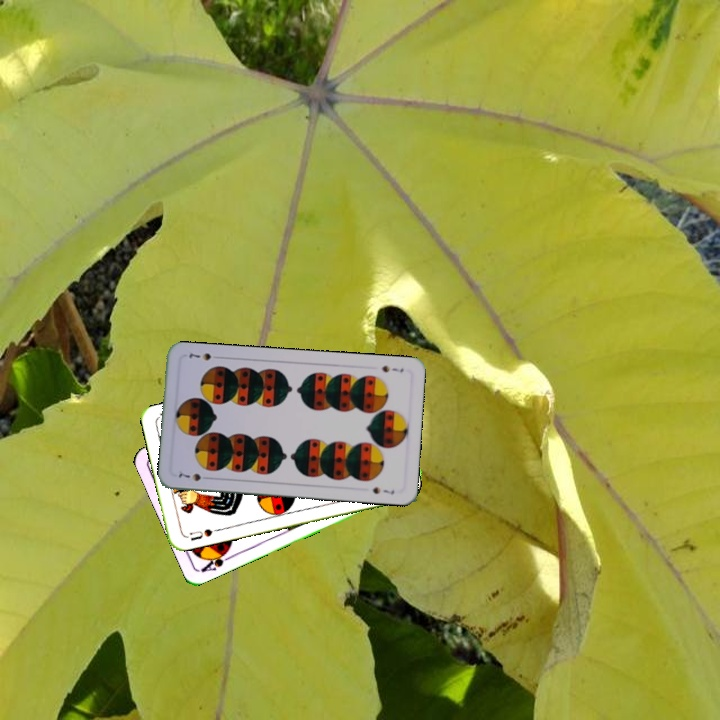S7: (174, 469, 213, 484), (378, 361, 406, 375)
SA: (197, 545, 236, 575)
SU: (182, 525, 222, 543)
